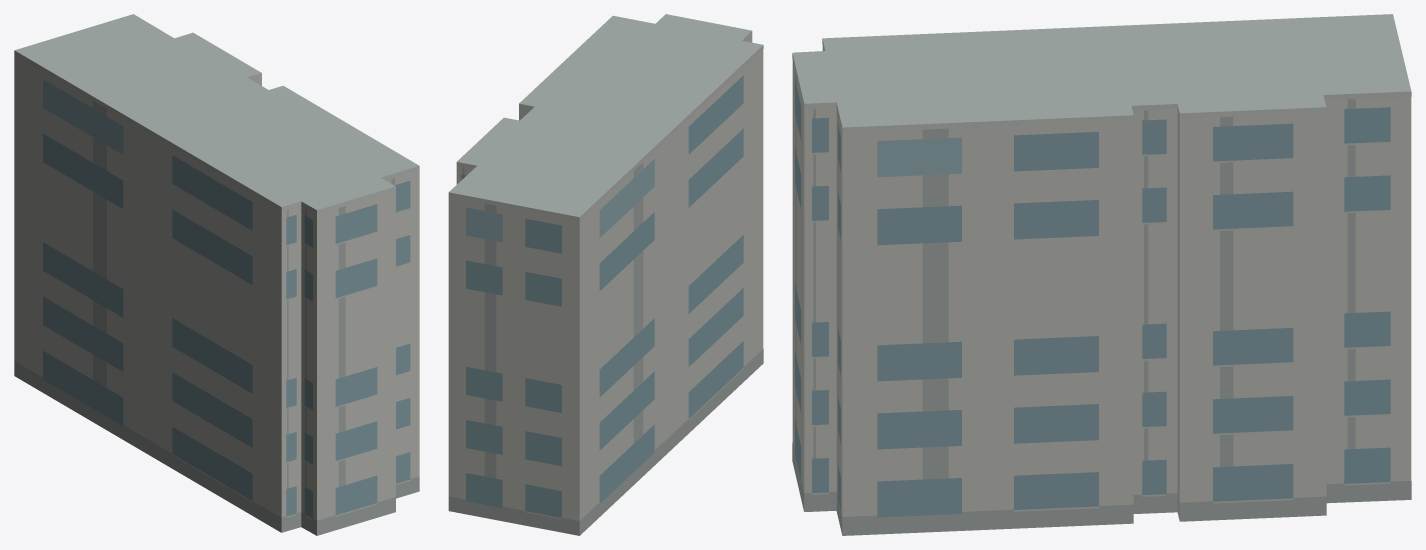
File: survey-upis-32988499.glb
The picture shows the model from 3 angles, left to right: view 1: azimuth 30°, elevation 25°; view 2: azimuth 150°, elevation 25°; view 3: azimuth 270°, elevation 25°; orthographic projection. The views are drawn at different scales.
Visible parts, largest first — view 1: survey-upis-32988499.tmp; view 2: survey-upis-32988499.tmp; view 3: survey-upis-32988499.tmp.
Boxes of the visible parts, x1,y1,x2,y2 form: survey-upis-32988499.tmp: [14, 14, 419, 535]; survey-upis-32988499.tmp: [448, 14, 763, 535]; survey-upis-32988499.tmp: [792, 14, 1411, 535].
Size of the model in its own units: 10.74 by 18 by 24.74.
